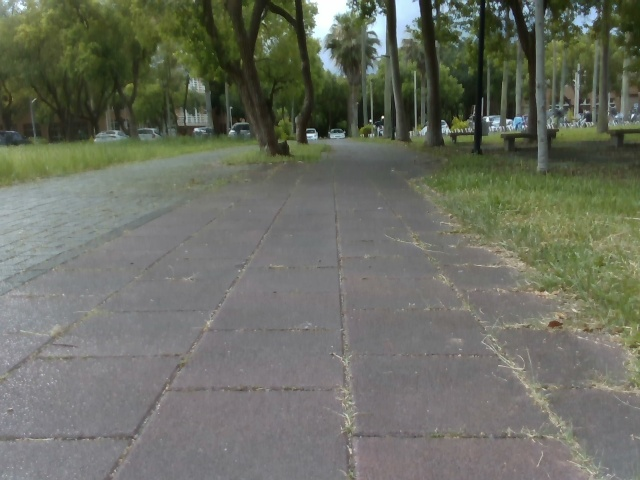grass: (0, 0, 639, 155), (352, 123, 639, 357), (0, 136, 329, 263)
road: (0, 140, 639, 479)
